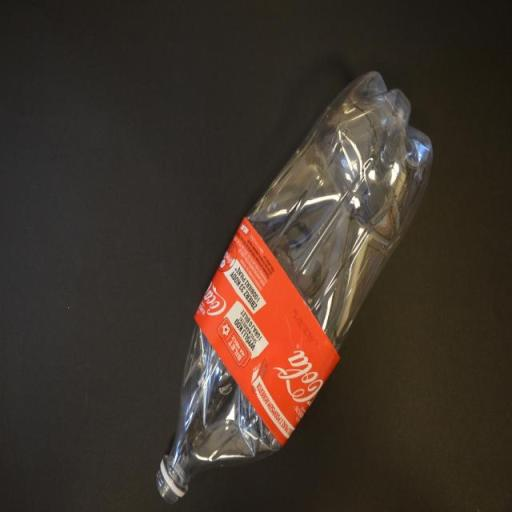plastic: (155, 70, 434, 504)
